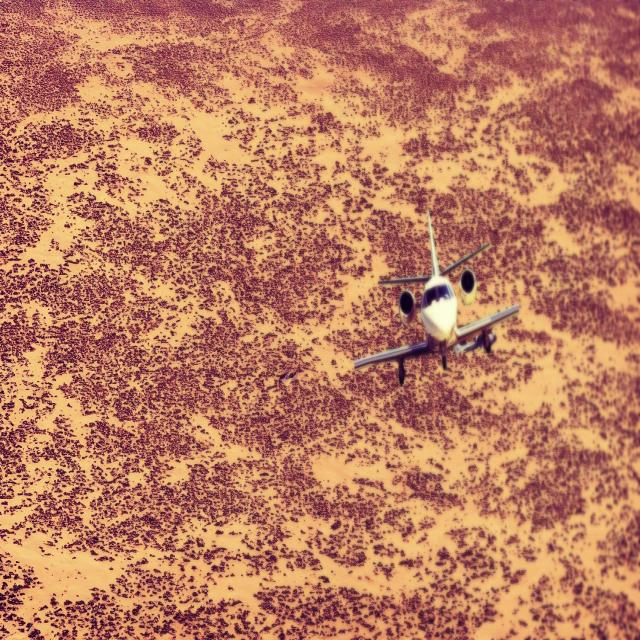airplane: (353, 208, 520, 386)
